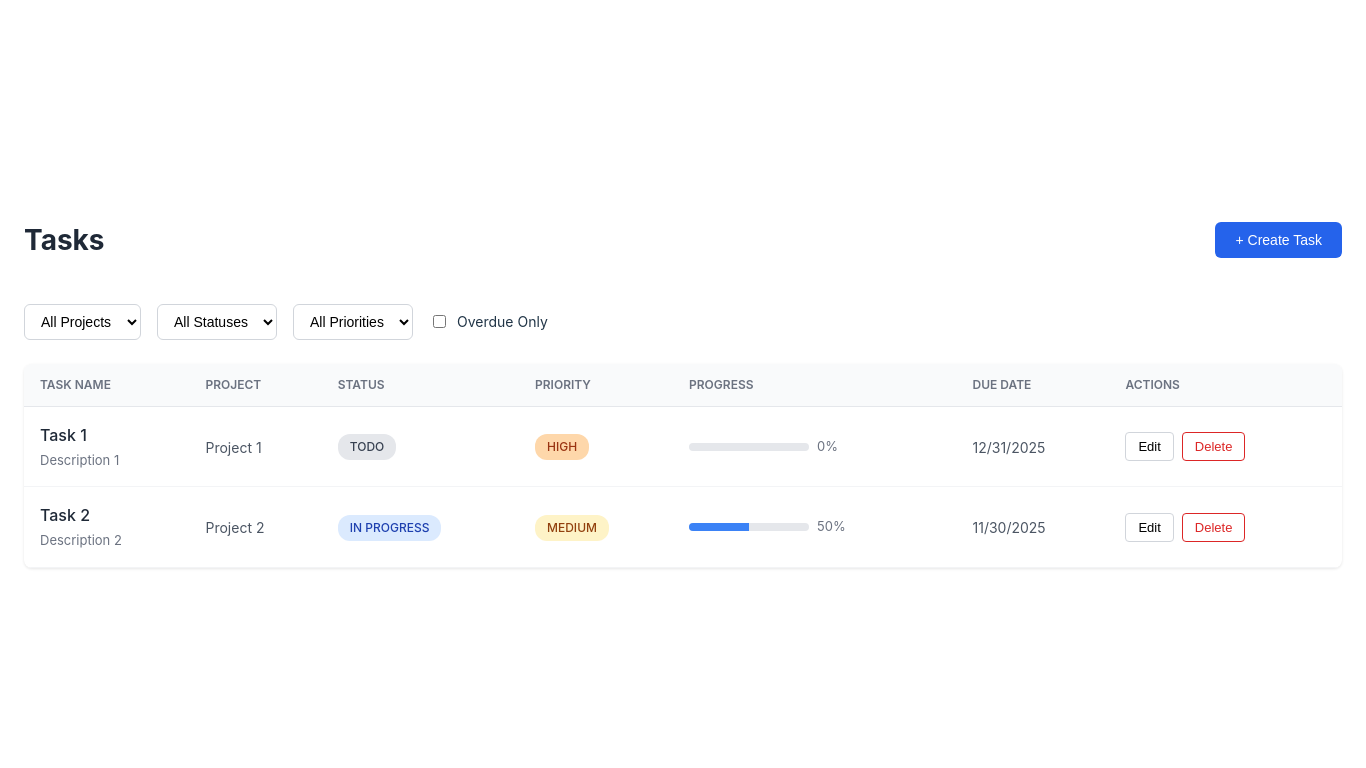
Test: TasksPage Integration Tests › Create Task Workflow › opens create modal when create button is clicked
The width and height of the screenshot is (1366, 768).
expect the text "Task 1" is shown: met, box left=40, top=425, right=87, bottom=445
Click the button "+ Create Task" at (1279, 240), box left=1216, top=222, right=1342, bottom=258
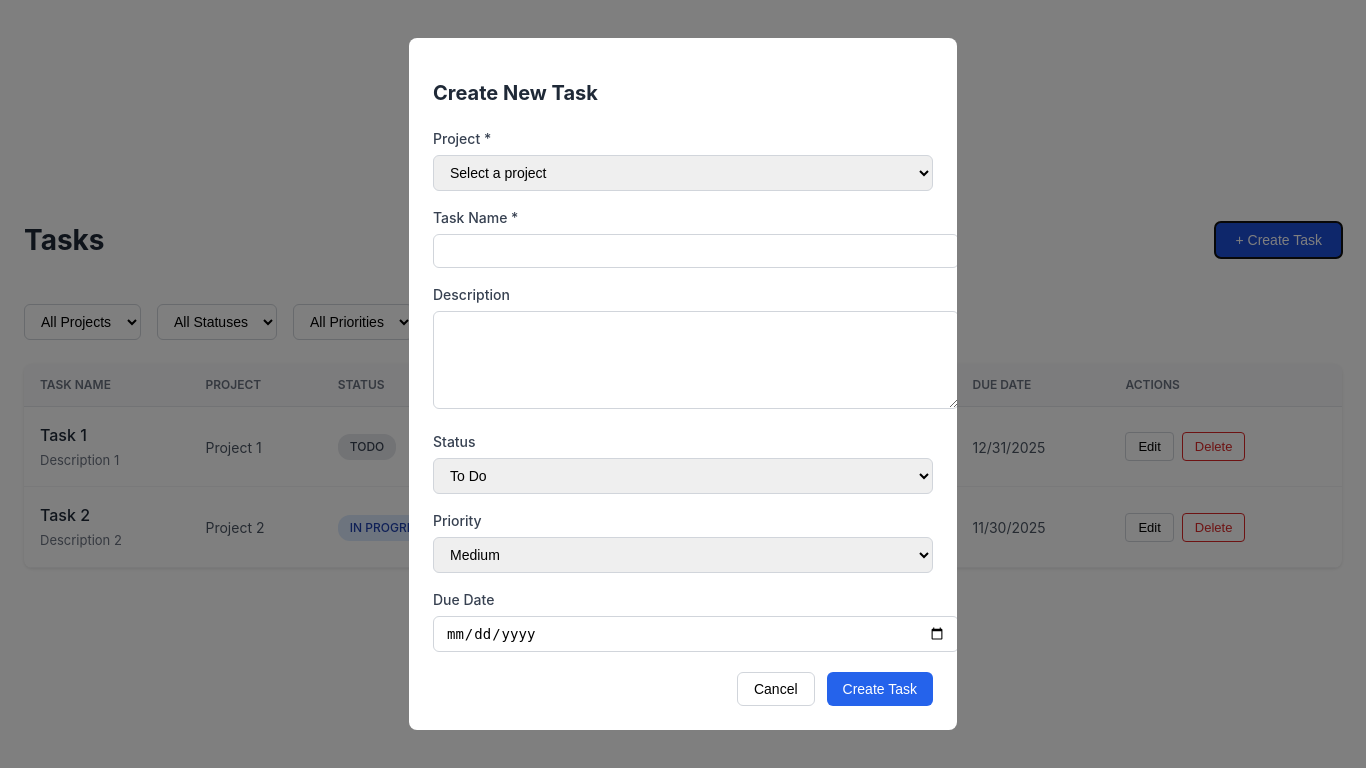
expect the button "Create Task" is shown: met, box left=826, top=672, right=933, bottom=706
